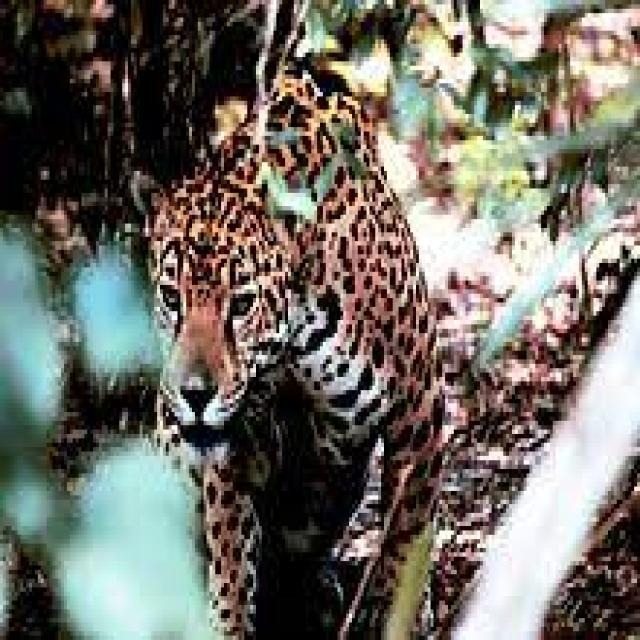Jaguar: (131, 74, 445, 640)
